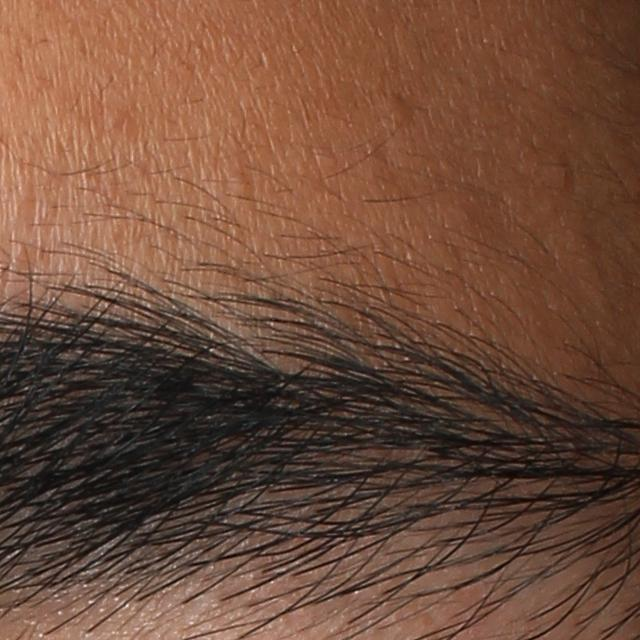comedo: (382, 95, 416, 131), (223, 171, 251, 195)
